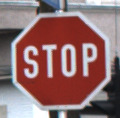stopsign: (12, 12, 110, 110)
